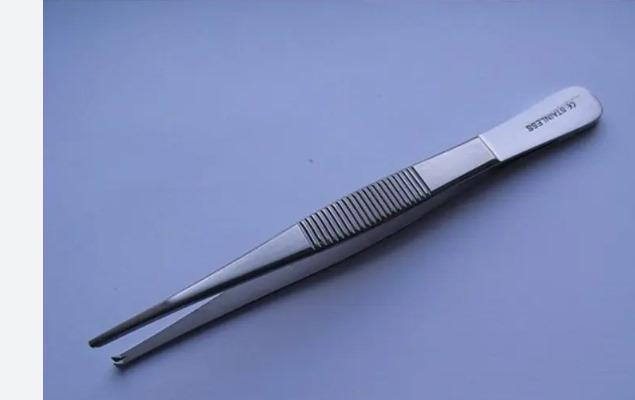Disscting Forceps: (82, 73, 614, 376)
